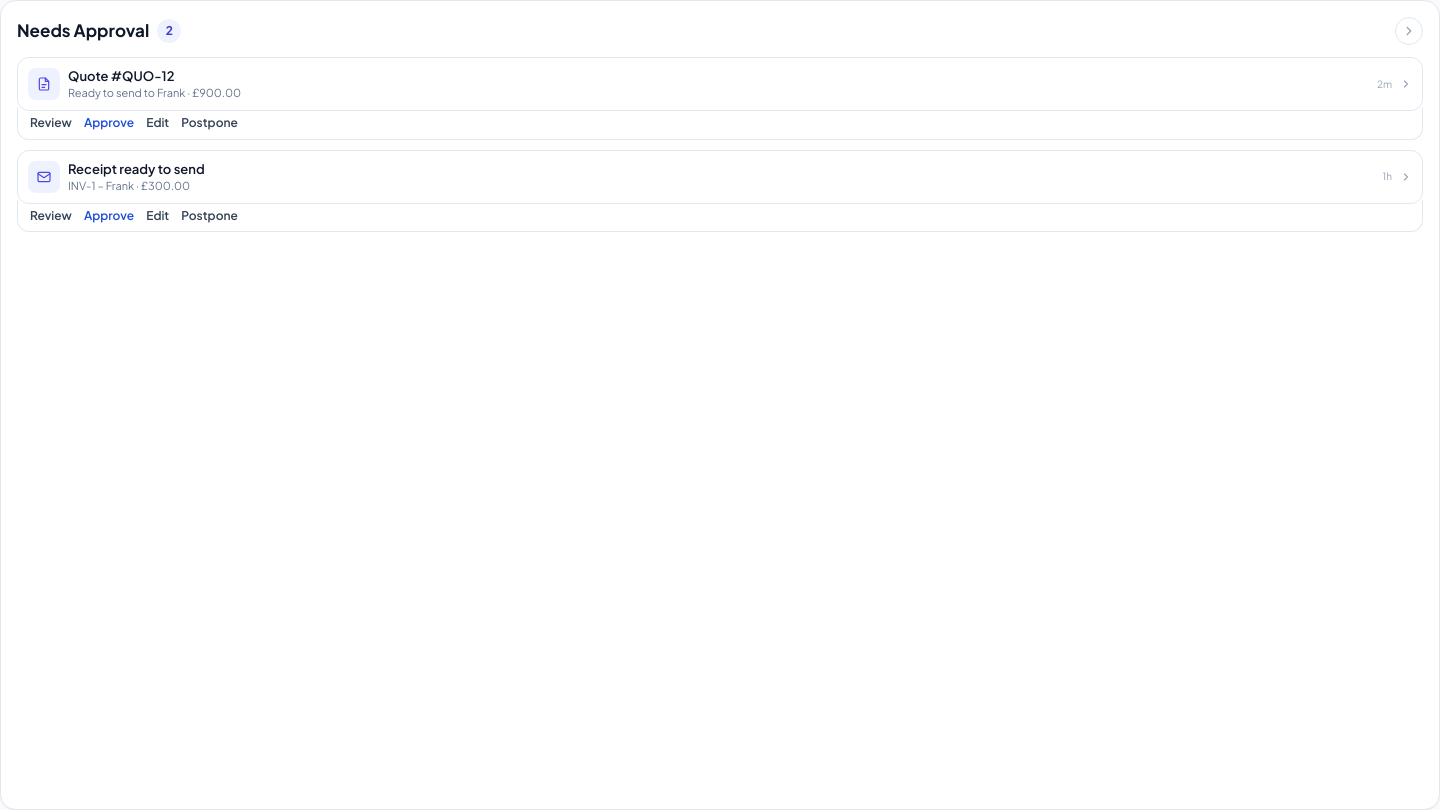
Test: Needs Approval on the dashboard › opens the approval in a drawer with the document, Approve, Decline and Edit draft, without leaving the page
The width and height of the screenshot is (1440, 810).
Click the button "Quote #QUO-12 Ready to send to Frank · £900.00 2m".
click(44, 84)  # box [17,57,1423,111]
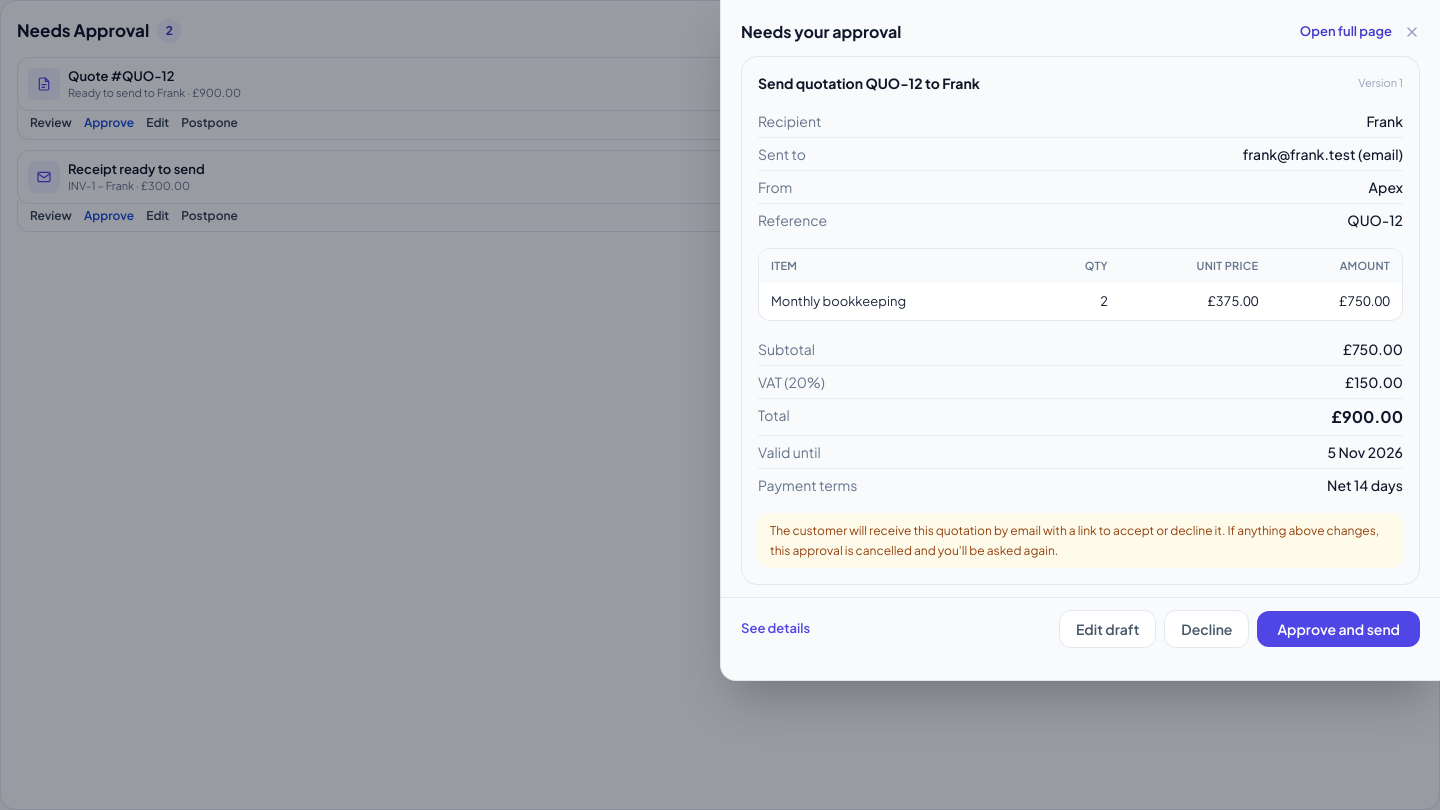
Check: the text "Send quotation QUO-12 to Frank" is shown, box [758,73,980,93]
Click the button "Edit draft".
click(1108, 629)  # box [1059,610,1156,648]
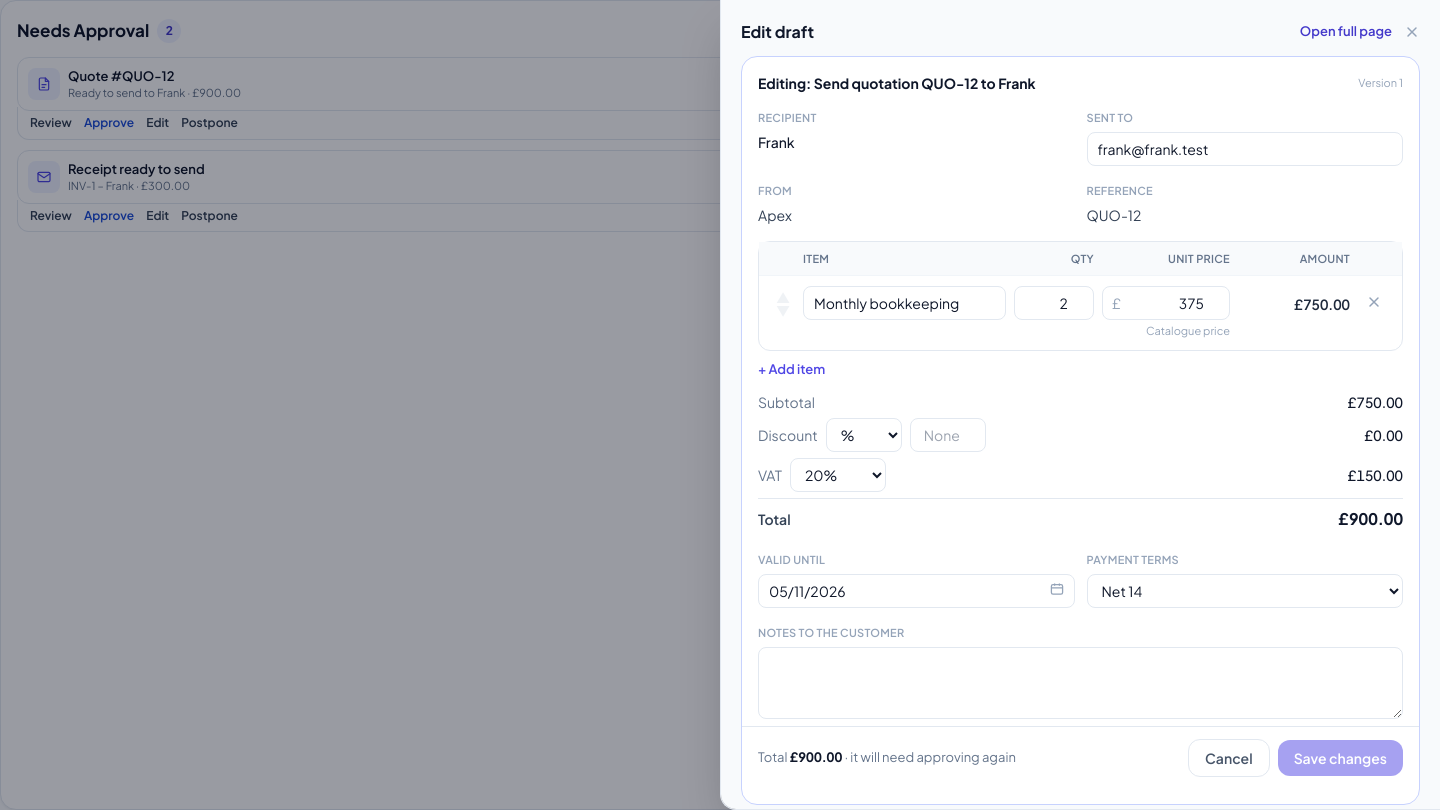
Check: the form named "Edit draft" is shown, box [741,56,1420,805]
Click the button "Cancel".
click(1229, 758)  # box [1188,739,1270,777]
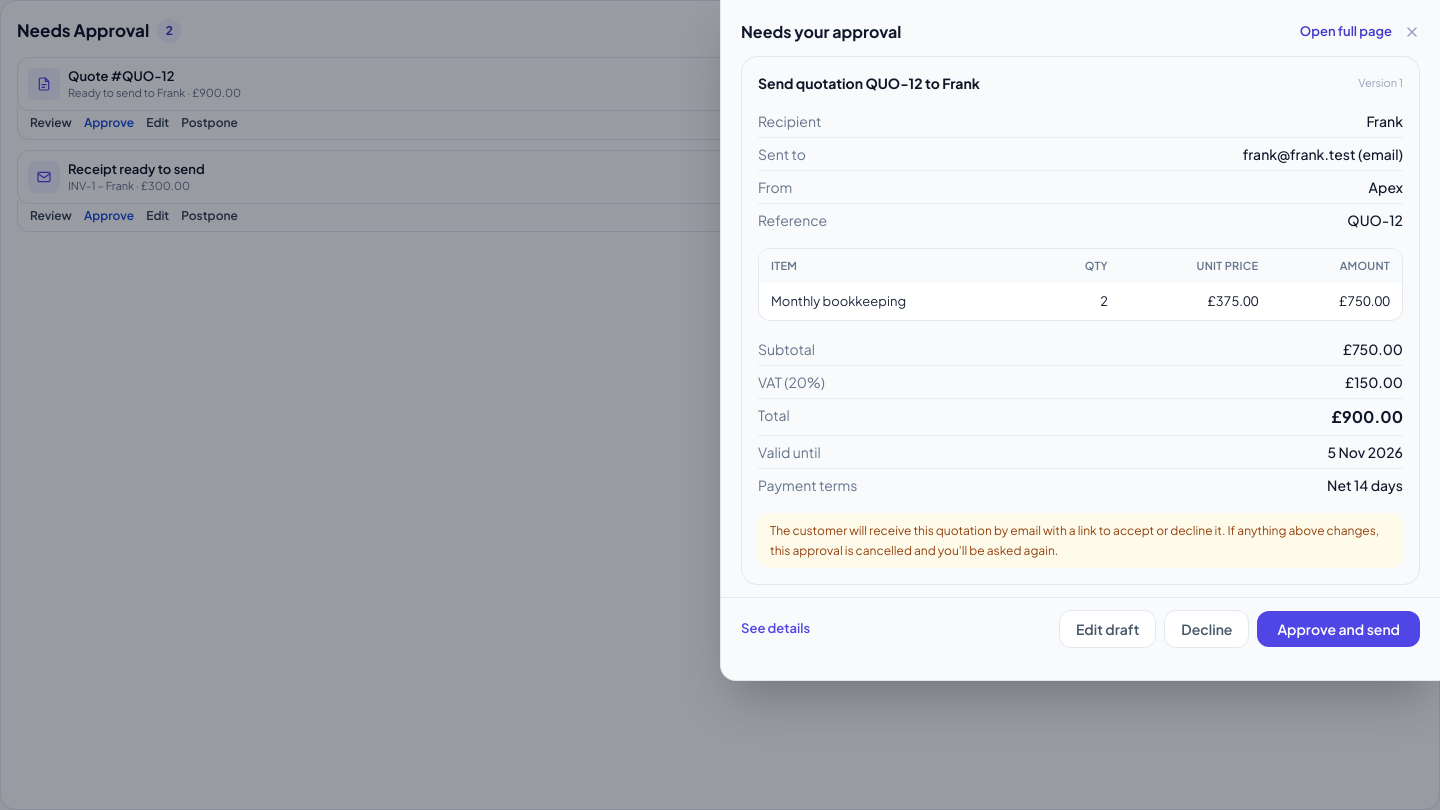
Check: the button "Approve and send" is shown
Click the button "Approve and send".
click(1339, 629)  # box [1257,611,1420,647]
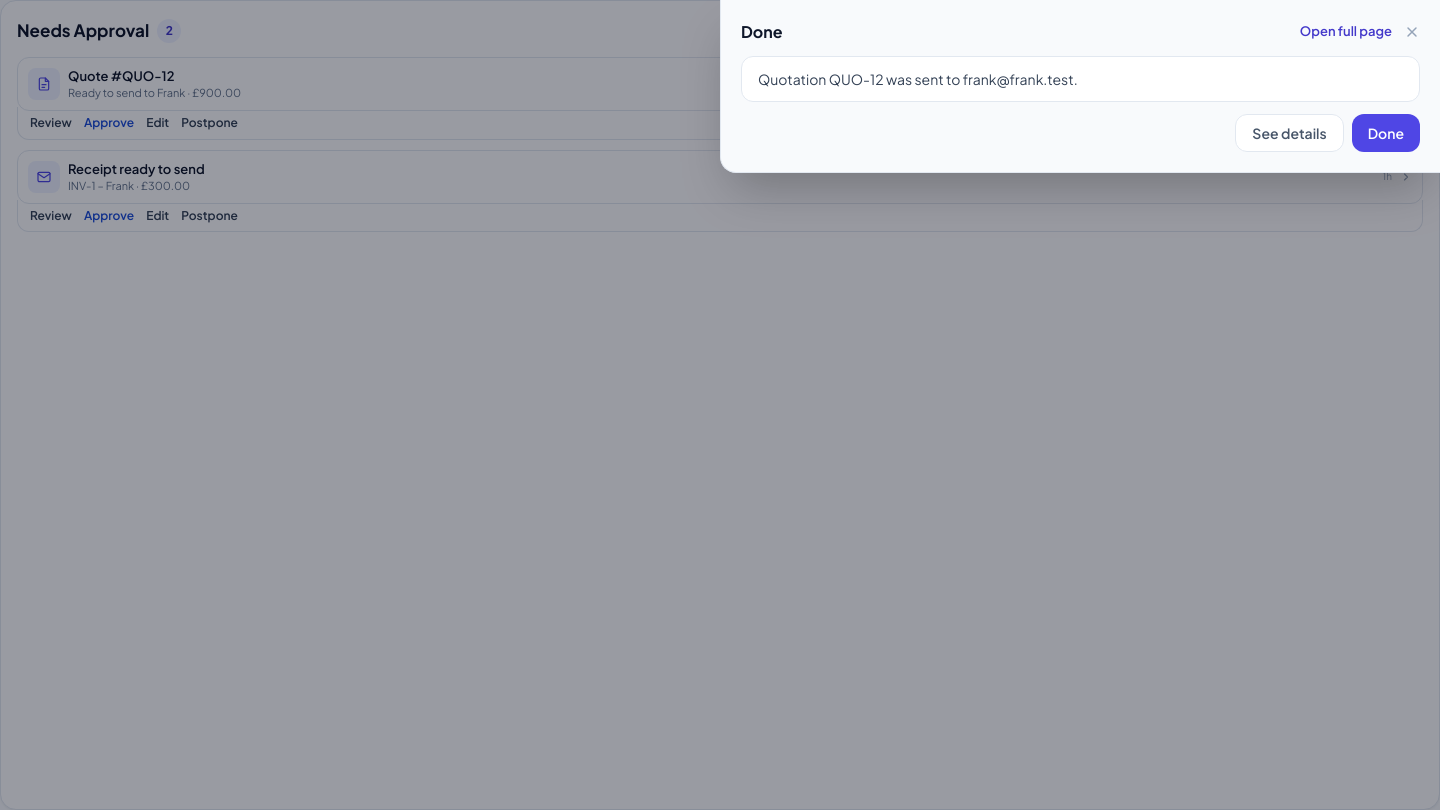
Check: the text "Quotation QUO-12 was sent to frank@frank.test." is shown, box [741,56,1420,102]
Click the button "Done".
click(1386, 133)  # box [1352,114,1420,152]
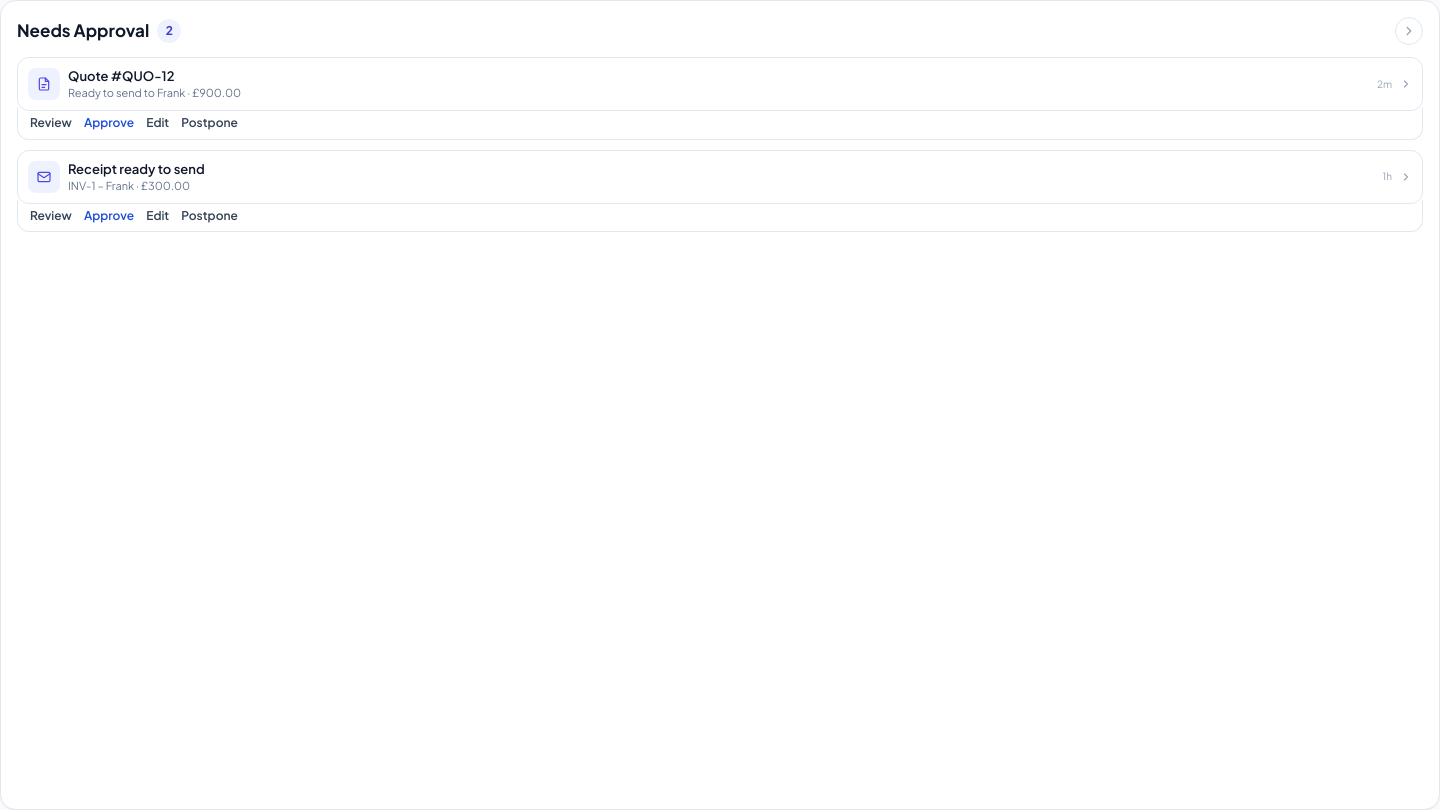
Check: the dialog is gone
